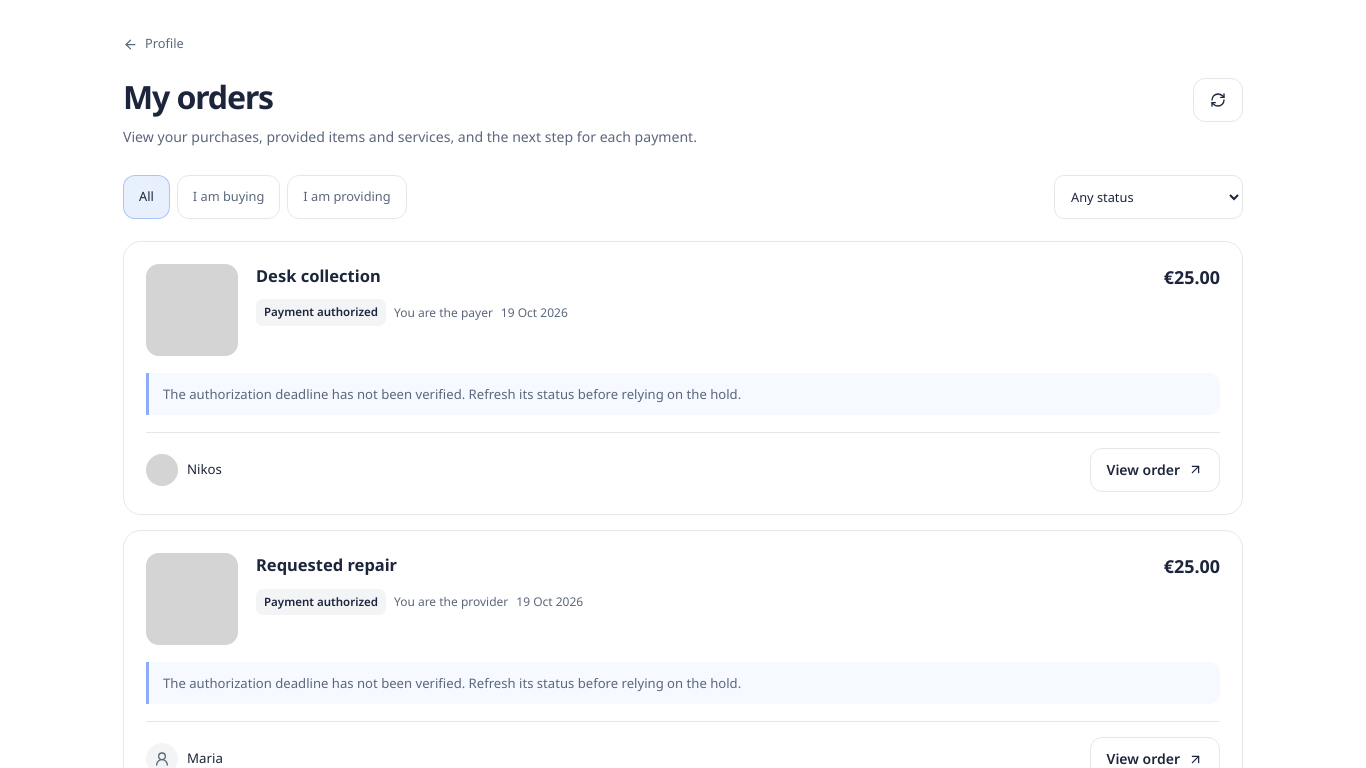
Test: My orders list › filters the actual payer/provider roles without using who published the listing
The width and height of the screenshot is (1366, 768).
Expected: the link "Desk collection" is shown, [256,264,381,287]
Click the button "I am providing" at (347, 197), box [287,175,407,219]
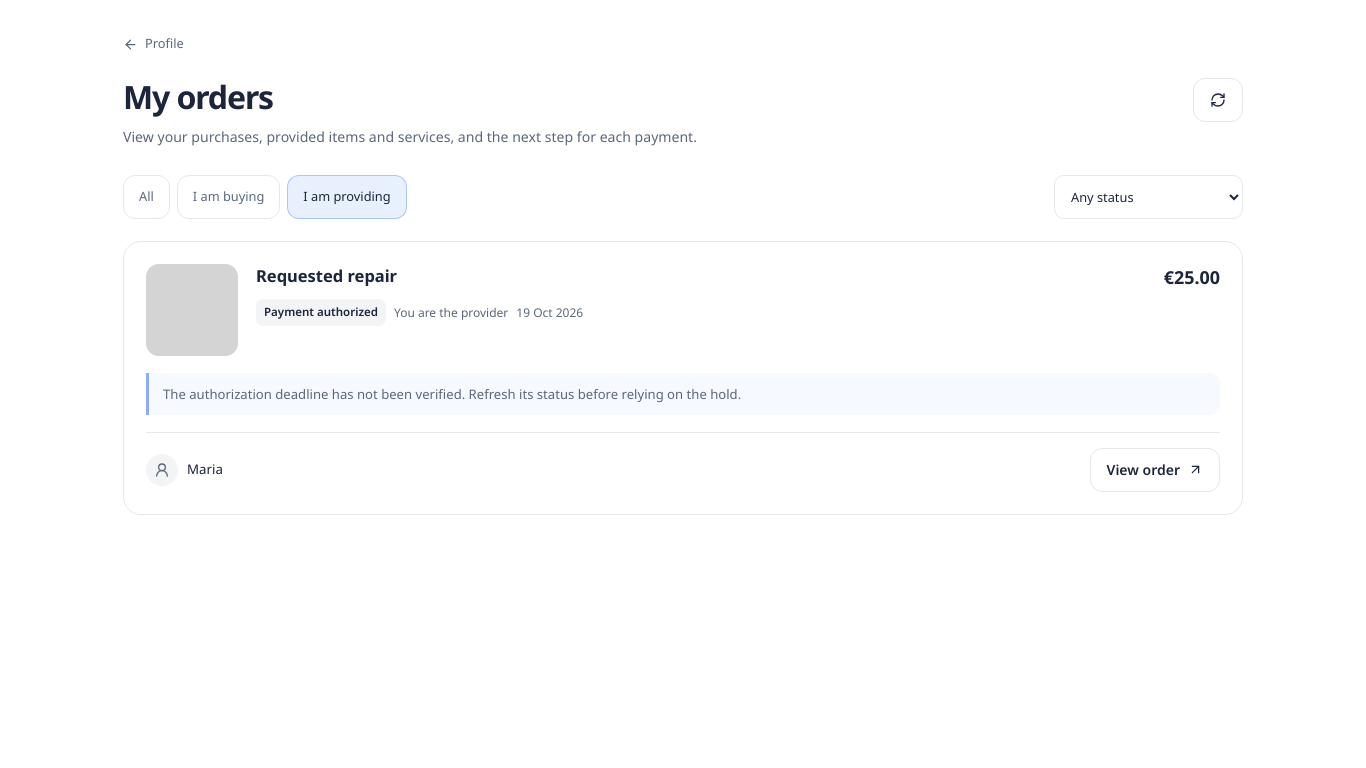
Expected: the link "Requested repair" is shown, [256,264,397,287]
Now the link "Desk collection" is gone
